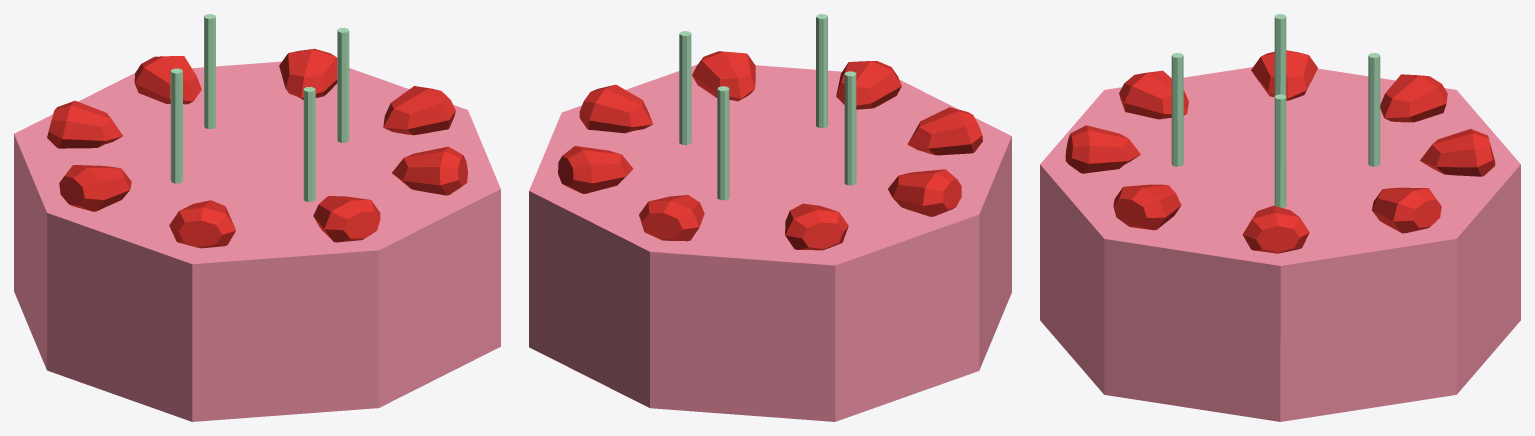
Rendered from strawberrycake.fbx.
3 renders of one model, left to right at view 1: azimuth 30°, elevation 25°; view 2: azimuth 150°, elevation 25°; view 3: azimuth 270°, elevation 25°, orthographic.
Parts seen in each view (by area): view 1: Plane, Cube, Plane.001, Plane.004, Plane.002, Plane.003; view 2: Plane, Cube, Plane.001, Plane.003, Plane.002, Plane.004; view 3: Plane, Cube, Plane.004, Plane.003, Plane.002, Plane.001.
Boxes of the visible parts, box(x1,y1,x2,y2) form: Plane: box(14, 61, 500, 421); Cube: box(47, 48, 467, 248); Plane.001: box(170, 68, 182, 183); Plane.004: box(303, 87, 315, 201); Plane.002: box(337, 27, 349, 142); Plane.003: box(204, 14, 215, 129); Plane: box(529, 64, 1011, 421); Cube: box(558, 51, 982, 250); Plane.001: box(844, 71, 856, 185); Plane.003: box(717, 86, 729, 200); Plane.002: box(679, 31, 691, 145); Plane.004: box(816, 14, 827, 128); Plane: box(1040, 67, 1520, 421); Cube: box(1065, 50, 1495, 253); Plane.004: box(1171, 53, 1183, 166); Plane.003: box(1368, 53, 1380, 166); Plane.002: box(1274, 94, 1286, 207); Plane.001: box(1274, 14, 1286, 96).
Bounding box in the file's own units: 40.18 × 24.43 × 40.18.
